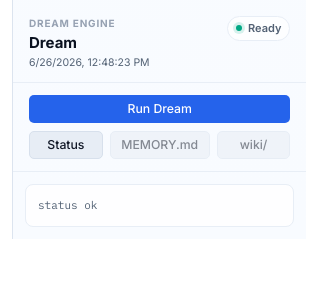
it: DreamPanel › renders Retry fix-action for [OPENAI_TIMEOUT]
The width and height of the screenshot is (332, 294).
Expected: the text "status ok" is shown, [25,184,294,227]
What coordinates should you click on to do the following:
click the button "Run Dream"
I would click on:
 (160, 108)
Its box is [29,94,290,122].
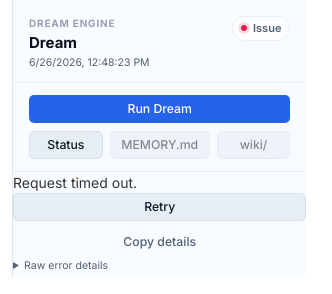
Now the text "Request timed out." is shown, box [13,174,137,190]
Now the button "Retry" is shown, box [13,192,306,220]
